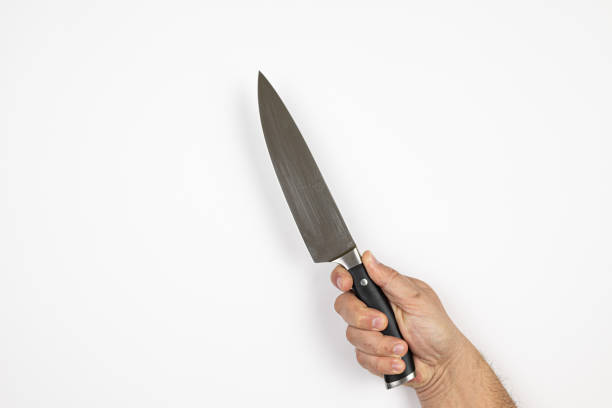knife: (258, 69, 419, 390)
